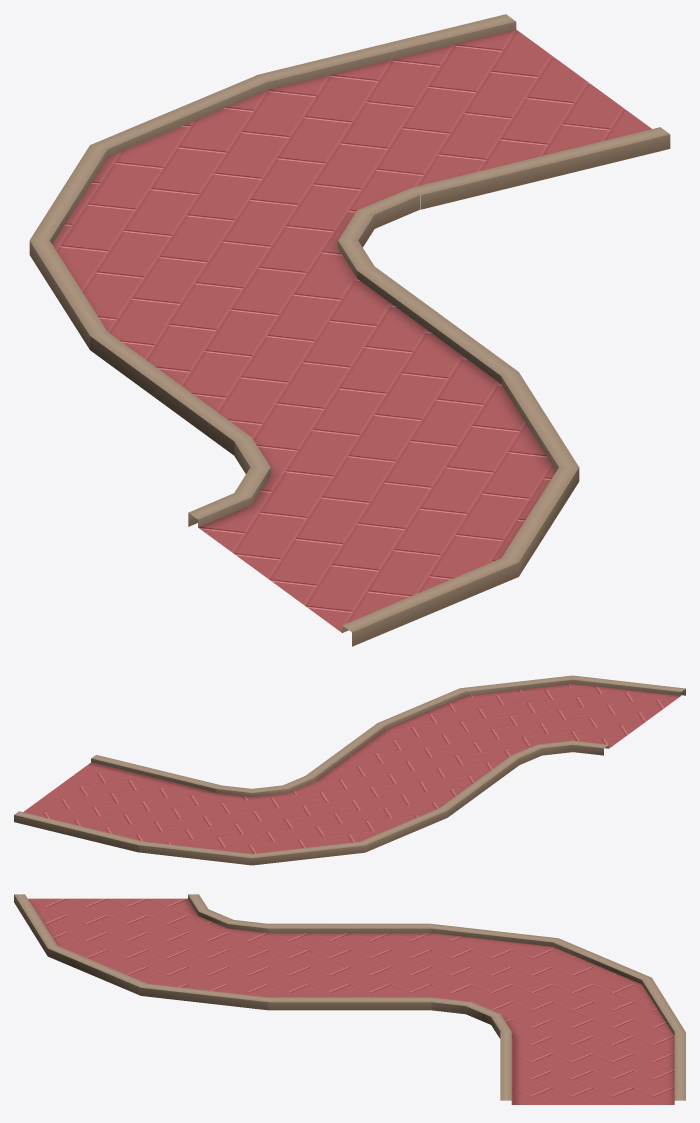
File: sidewalk_2.fbx
The picture shows the model from 3 angles, top to bottom: view 1: azimuth 30°, elevation 25°; view 2: azimuth 150°, elevation 25°; view 3: azimuth 270°, elevation 25°; orthographic projection. The views are drawn at different scales.
Parts seen in each view (by area): view 1: sidewalk_2_left, sidewalk_2_right, sidewalk_2_straight_x, sidewalk_2_straight_z; view 2: sidewalk_2_right, sidewalk_2_left, sidewalk_2_straight_x, sidewalk_2_straight_z; view 3: sidewalk_2_left, sidewalk_2_right, sidewalk_2_straight_z, sidewalk_2_straight_x.
Boxes of the visible parts, <box> form: sidewalk_2_left: <box>188,372,579,646</box>; sidewalk_2_right: <box>29,75,420,349</box>; sidewalk_2_straight_x: <box>256,14,670,209</box>; sidewalk_2_straight_z: <box>90,266,518,455</box>; sidewalk_2_right: <box>139,776,447,865</box>; sidewalk_2_left: <box>377,675,685,764</box>; sidewalk_2_straight_x: <box>14,755,220,852</box>; sidewalk_2_straight_z: <box>305,723,519,817</box>; sidewalk_2_left: <box>14,894,268,1010</box>; sidewalk_2_right: <box>431,924,685,1038</box>; sidewalk_2_straight_z: <box>268,923,431,1010</box>; sidewalk_2_straight_x: <box>500,1032,685,1104</box>.
Size of the model in its own units: 6 by 0.11 by 8.25.
1 material, 1 textured.
